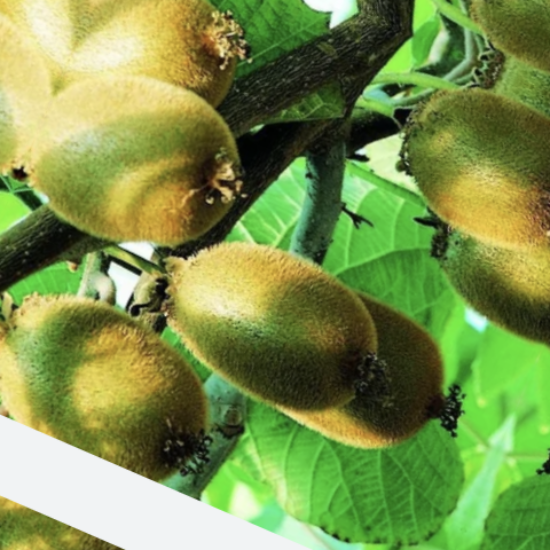kiwi: (117, 185, 421, 460), (0, 247, 276, 540), (0, 39, 268, 315), (368, 47, 550, 286)
